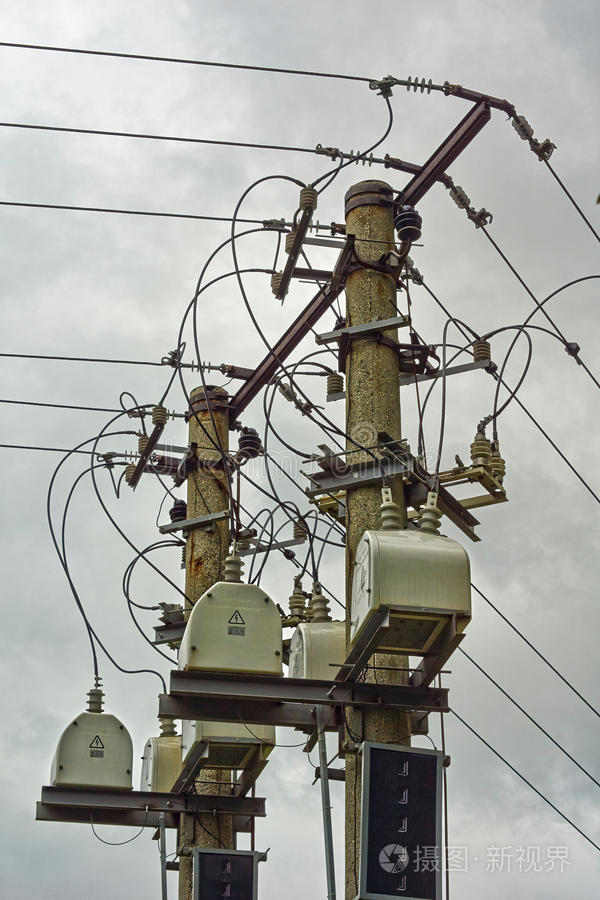insulator: (279, 218, 322, 237), (402, 74, 437, 95), (344, 149, 380, 168), (510, 116, 536, 141), (446, 185, 471, 210), (185, 360, 212, 376)
